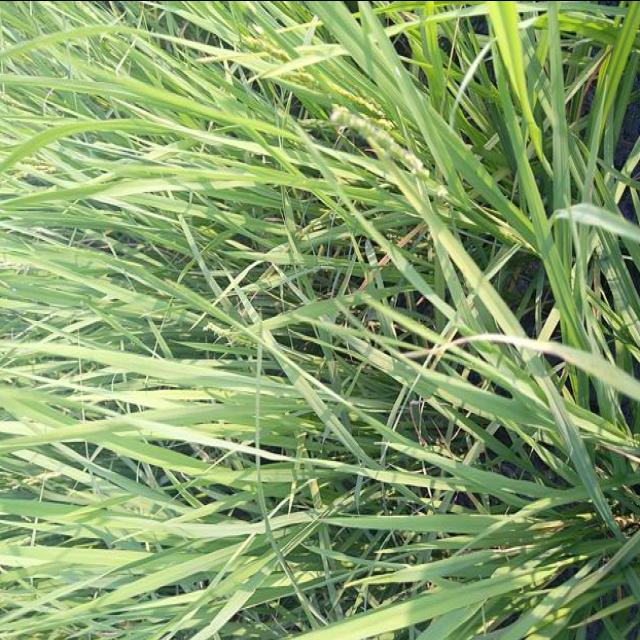Leaf Blight: (404, 334, 640, 400)
